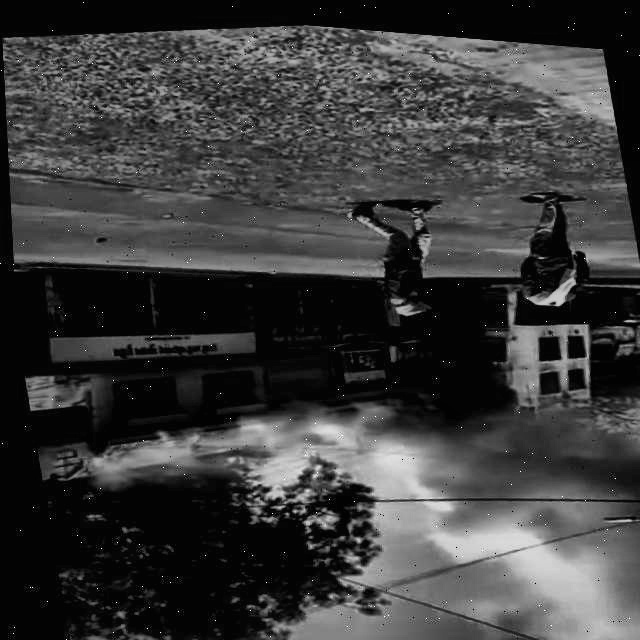Smoke: (65, 321, 640, 640)
